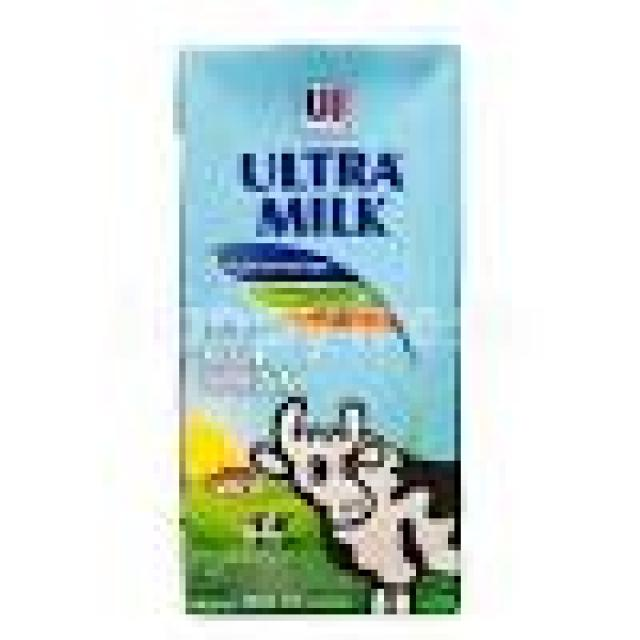non_white_jug: (166, 19, 480, 621)
